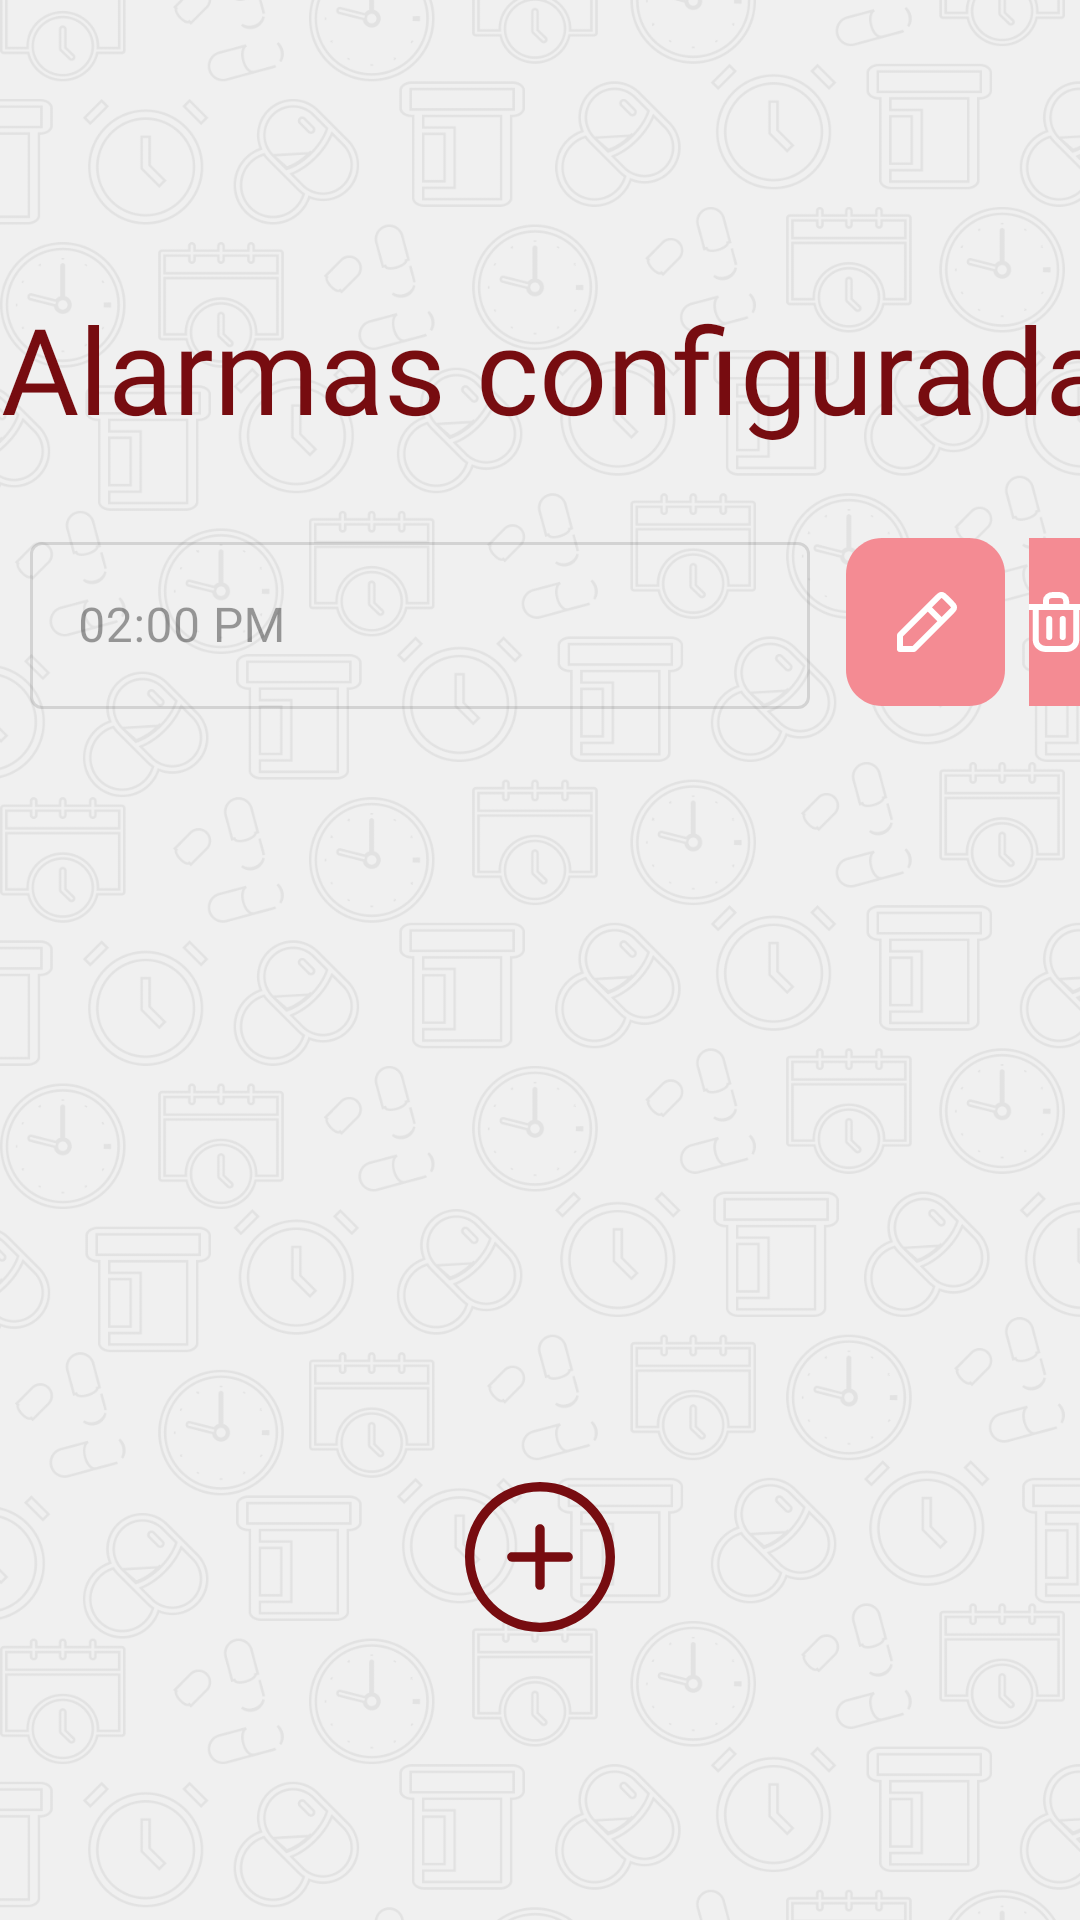

Screen size 1080x1920. Icon name, then its center in pixels as (x,y):
Agregar alarma: (540,1557)
editar: (925,622)
eliminar: (1054,622)
